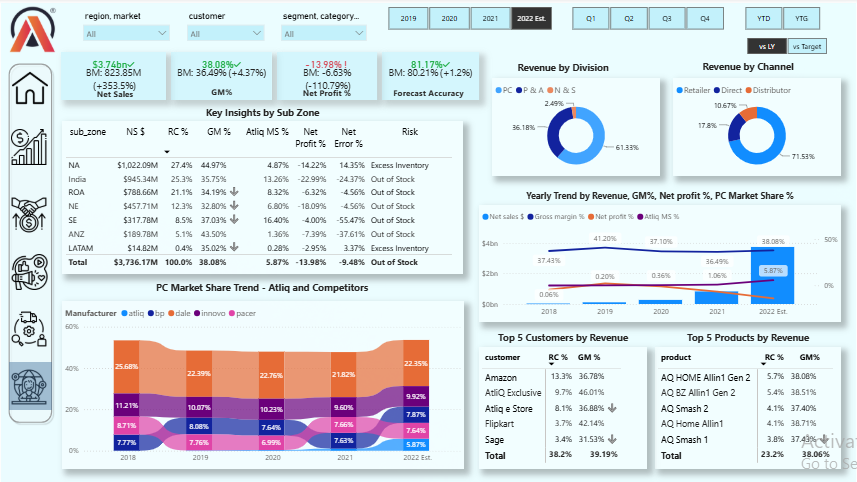

This screenshot's page, from the dashboard's own definition file:
{"tool":"powerbi","page":{"name":"Executive View","canvas":[1425,800],"ordinal":6},"visuals":[{"type":"slicer","fields":{"Values":["Fiscal Year.FY_desc"]},"box":[620,0,321.5,50.8],"z":0},{"type":"slicer","fields":{"Values":["dim_date.Quarter"]},"box":[926.2,0,301.5,50.8],"z":1000},{"type":"slicer","fields":{"Values":["dim_date.YTD_YTG"]},"box":[1215.4,0,173.8,50.8],"z":2000},{"type":"textbox","box":[101.7,166.7,668.3,40],"z":3000},{"type":"slicer","fields":{"Values":["dim_market.region","dim_market.market"]},"box":[126.2,7.7,164.6,63.1],"z":4000},{"type":"slicer","fields":{"Values":["dim_customer.customer"]},"box":[299.2,7.7,149.2,63.1],"z":5000},{"type":"slicer","fields":{"Values":["dim_product.segment","dim_product.category","dim_product.product"]},"box":[456.9,7.7,163.1,63.1],"z":6000},{"type":"kpi","fields":{"Goal":["Key Measures.NS BM $"],"Indicator":["Key Measures.Net sales $"],"TrendLine":["dim_date.Fiscal year"]},"box":[100,81.7,175,80],"z":7000},{"type":"textbox","box":[103.3,136.7,173.3,31.7],"z":8000},{"type":"kpi","fields":{"Goal":["Key Measures.GM% BM"],"Indicator":["Key Measures.Gross margin %"],"TrendLine":["dim_date.Fiscal year"]},"box":[283.3,81.7,168.3,80],"z":9000},{"type":"textbox","box":[283.3,133.3,170,30],"z":10000},{"type":"kpi","fields":{"Goal":["Key Measures.NP% BM"],"Indicator":["Key Measures.Net profit %"],"TrendLine":["dim_date.Fiscal year"]},"box":[460,81.7,166.7,80],"z":11000},{"type":"textbox","box":[460,135,166.7,30],"z":12000},{"type":"image","box":[4.6,4.6,96.9,76.9],"z":13000},{"type":"shape","box":[6.2,95.4,84.6,610.8],"z":14000},{"type":"image","box":[16.9,323.1,60,60],"z":15000},{"type":"image","box":[16.9,418.5,61.5,60],"z":16000},{"type":"image","box":[16.9,210.8,60,60],"z":17000},{"type":"image","box":[16.9,609.2,60,60],"z":18000},{"type":"image","box":[16.9,513.8,60,60],"z":19000},{"type":"image","box":[18.5,112.3,60,60],"z":20000},{"type":"shape","box":[13.3,598.3,71.7,80],"z":21000},{"type":"slicer","fields":{"Values":["Set BM.Benchmarks"]},"box":[1218.5,52.3,181.5,36.9],"z":22000},{"type":"cardVisual","fields":{"Data":["Key Measures.BM Msg"]},"box":[101.7,55,533.3,56.7],"z":23000},{"type":"kpi","fields":{"Goal":["Key Measures.Forecast Accuracy % LY"],"Indicator":["Key Measures.Forecast Accuracy %"],"TrendLine":["dim_date.Fiscal year"]},"box":[635,81.7,161.7,80],"z":24000},{"type":"textbox","box":[631.7,135,161.7,30],"z":25000},{"type":"donutChart","fields":{"Category":["dim_product.division"],"Y":["Key Measures.Net sales $"]},"box":[818.3,125,280,163.3],"z":26000},{"type":"textbox","box":[796.9,92.3,280,32.3],"z":27000},{"type":"donutChart","fields":{"Category":["dim_customer.channel"],"Y":["Key Measures.Net sales $"]},"box":[1120,125,280,163.3],"z":28000},{"type":"textbox","box":[1090,90,310,35],"z":29000},{"type":"tableEx","fields":{"Values":["sub_zone.sub_zone","Key Measures.Net sales $","Key Measures.RC %","Key Measures.Gross margin %","Key Measures.Atliq MS %","Key Measures.Net profit %","Key Measures.Net Error %","Key Measures.Risk"]},"box":[101.7,196.7,668.3,255],"z":30000},{"type":"lineClusteredColumnComboChart","fields":{"Category":["Fiscal Year.FY_desc"],"Y":["Key Measures.Net sales $"],"Y2":["Key Measures.Gross margin %","Key Measures.Net profit %","Key Measures.Atliq MS %"]},"box":[796.7,337.2,603.3,195],"z":31000},{"type":"textbox","box":[796.7,305.6,603.3,40],"z":32000},{"type":"ribbonChart","fields":{"Category":["Fiscal Year.FY_desc"],"Series":["marketshare.Manufacturer"],"Y":["Key Measures.Market Share %"]},"box":[101.7,496.7,670,280],"z":33000},{"type":"pivotTable","fields":{"Rows":["dim_customer.customer"],"Values":["Key Measures.RC %","Key Measures.Gross margin %"]},"box":[796.7,573.3,280,203.3],"z":34000},{"type":"pivotTable","fields":{"Rows":["dim_product.product"],"Values":["Key Measures.RC %","Key Measures.Gross margin %"]},"box":[1090,573.3,310,203.3],"z":35000},{"type":"textbox","box":[100,458.3,670,40],"z":36000},{"type":"textbox","box":[796.7,541.7,280,31.7],"z":37000},{"type":"textbox","box":[1090,541.7,310,31.7],"z":38000}]}

Visuals, with their boxes on the page's 1425x800 design canvas (x1, y1, x2, y2). These are canvas units, not pixel positions in the 857x482 screenshot, which may show the page scaled, cropped or inside an application window:
slicer - Fiscal Year.FY_desc: bbox(620, 0, 942, 51)
slicer - dim_date.Quarter: bbox(926, 0, 1228, 51)
slicer - dim_date.YTD_YTG: bbox(1215, 0, 1389, 51)
textbox: bbox(102, 167, 770, 207)
slicer - dim_market.region x dim_market.market: bbox(126, 8, 291, 71)
slicer - dim_customer.customer: bbox(299, 8, 448, 71)
slicer - dim_product.segment x dim_product.category: bbox(457, 8, 620, 71)
kpi - Key Measures.NS BM $ x Key Measures.Net sales $: bbox(100, 82, 275, 162)
textbox: bbox(103, 137, 277, 168)
kpi - Key Measures.GM% BM x Key Measures.Gross margin %: bbox(283, 82, 452, 162)
textbox: bbox(283, 133, 453, 163)
kpi - Key Measures.NP% BM x Key Measures.Net profit %: bbox(460, 82, 627, 162)
textbox: bbox(460, 135, 627, 165)
image: bbox(5, 5, 102, 82)
shape: bbox(6, 95, 91, 706)
image: bbox(17, 323, 77, 383)
image: bbox(17, 418, 78, 478)
image: bbox(17, 211, 77, 271)
image: bbox(17, 609, 77, 669)
image: bbox(17, 514, 77, 574)
image: bbox(18, 112, 78, 172)
shape: bbox(13, 598, 85, 678)
slicer - Set BM.Benchmarks: bbox(1218, 52, 1400, 89)
cardVisual - Key Measures.BM Msg: bbox(102, 55, 635, 112)
kpi - Key Measures.Forecast Accuracy % LY x Key Measures.Forecast Accuracy %: bbox(635, 82, 797, 162)
textbox: bbox(632, 135, 793, 165)
donutChart - dim_product.division x Key Measures.Net sales $: bbox(818, 125, 1098, 288)
textbox: bbox(797, 92, 1077, 125)
donutChart - dim_customer.channel x Key Measures.Net sales $: bbox(1120, 125, 1400, 288)
textbox: bbox(1090, 90, 1400, 125)
tableEx - sub_zone.sub_zone x Key Measures.Net sales $: bbox(102, 197, 770, 452)
lineClusteredColumnComboChart - Fiscal Year.FY_desc x Key Measures.Net sales $: bbox(797, 337, 1400, 532)
textbox: bbox(797, 306, 1400, 346)
ribbonChart - Fiscal Year.FY_desc x marketshare.Manufacturer: bbox(102, 497, 772, 777)
pivotTable - dim_customer.customer x Key Measures.RC %: bbox(797, 573, 1077, 777)
pivotTable - dim_product.product x Key Measures.RC %: bbox(1090, 573, 1400, 777)
textbox: bbox(100, 458, 770, 498)
textbox: bbox(797, 542, 1077, 573)
textbox: bbox(1090, 542, 1400, 573)
